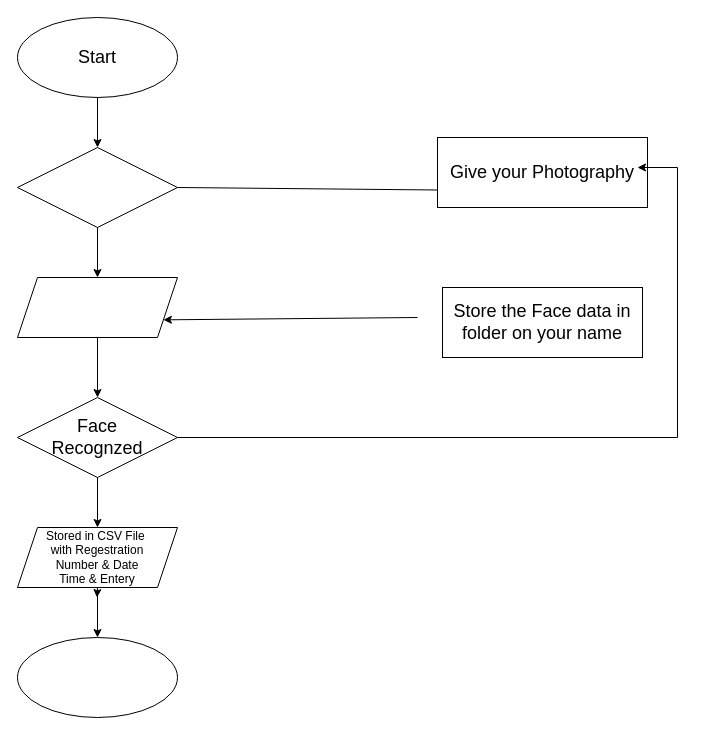
Some shapes in this 703 by 735 pixel diagram are drawn without their labels. Each missing label, with the box of its shape:
New User?: (16, 146, 178, 228)
Recognize The face: (16, 276, 178, 338)
